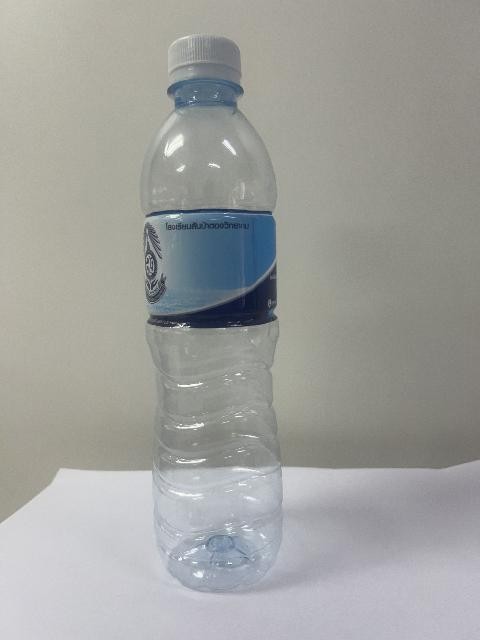bottle: (141, 35, 282, 590)
